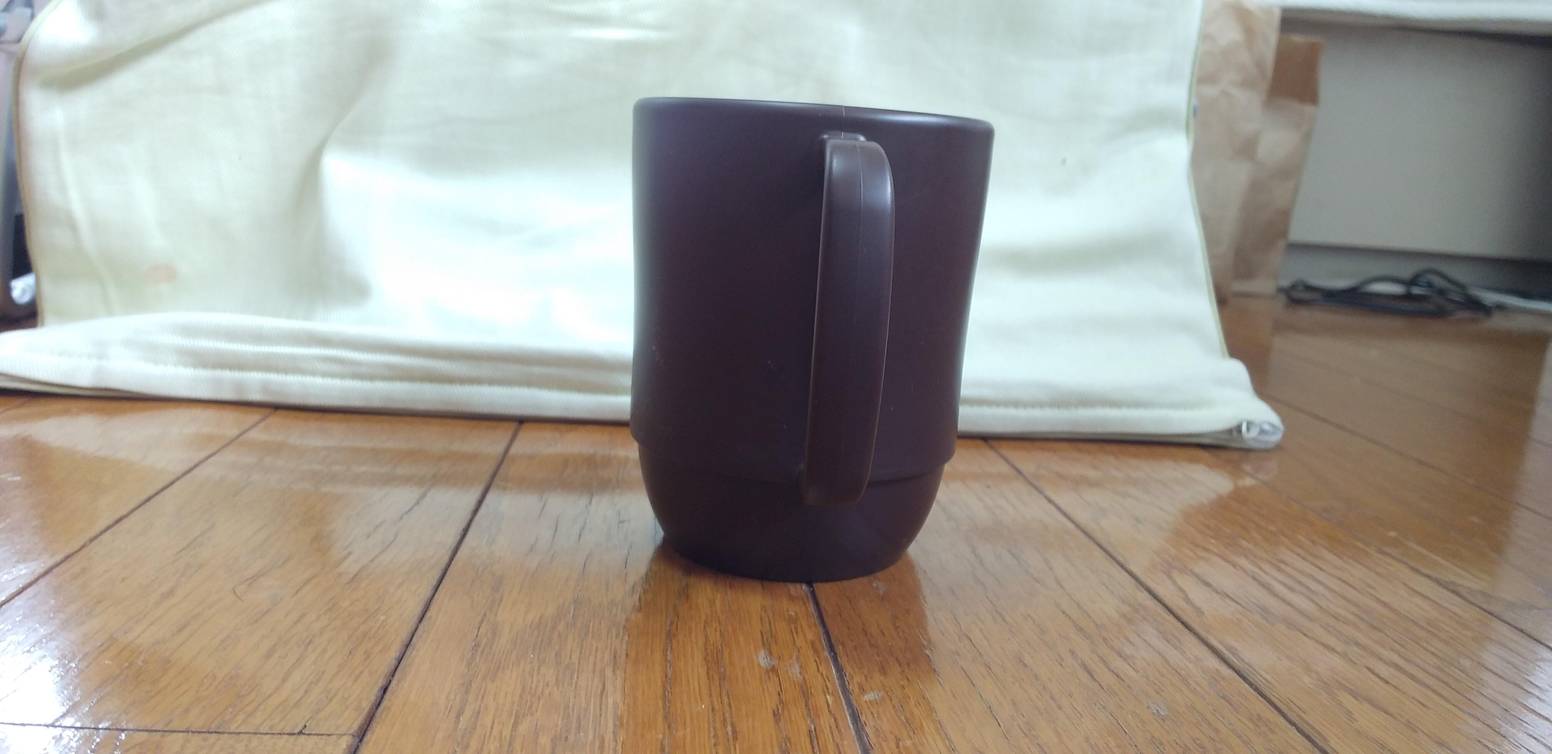mug-real100-3d100: (629, 98, 993, 582)
